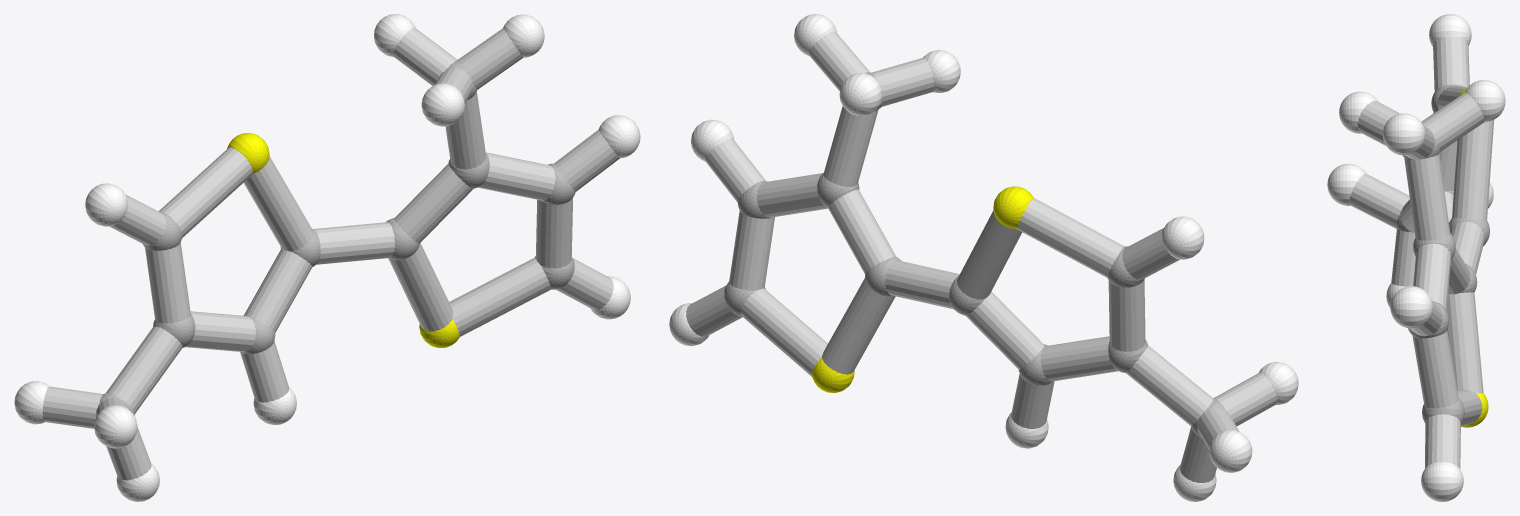
Rendered from Methylthiophene_Phi_15_Theta_20_Methylthiophene.glb.
The picture shows the model from 3 angles, left to right: view 1: azimuth 30°, elevation 25°; view 2: azimuth 150°, elevation 25°; view 3: azimuth 270°, elevation 25°; orthographic projection.
Visible parts, largest first — view 1: grp7965, grp3621, grp1, grp7241; view 2: grp7965, grp3621, grp1, grp7241; view 3: grp7965, grp3621, grp1, grp7241.
Part boxes in pixels (x1,y1,x2,y2): grp7965: [42, 28, 619, 480]; grp3621: [14, 14, 640, 501]; grp1: [98, 61, 575, 415]; grp7241: [227, 133, 459, 348]; grp7965: [686, 31, 1277, 482]; grp3621: [669, 14, 1298, 501]; grp1: [724, 72, 1226, 437]; grp7241: [812, 186, 1033, 392]; grp7965: [1349, 36, 1494, 468]; grp3621: [1327, 14, 1505, 501]; grp1: [1396, 84, 1489, 423]; grp7241: [1459, 88, 1488, 427].
Size of the model in its own units: 9.49 by 5.96 by 2.51.
